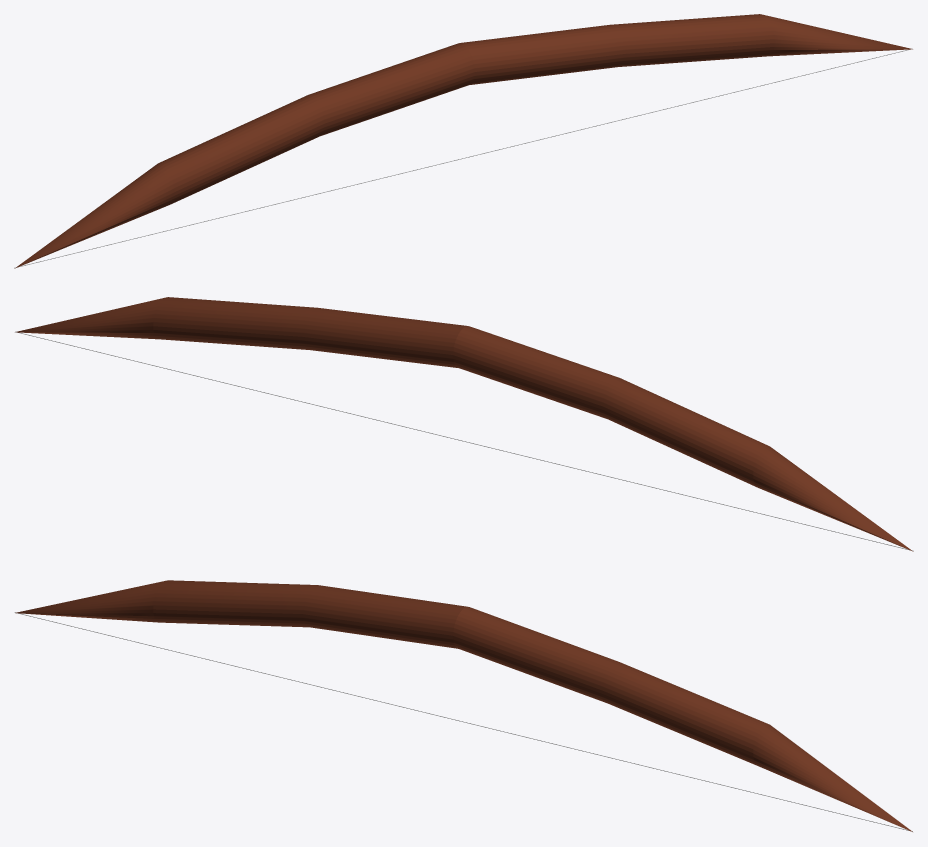
The model's file is bow.fbx.
3 views of the same model, one above another, from view 1: azimuth 30°, elevation 25°; view 2: azimuth 150°, elevation 25°; view 3: azimuth 330°, elevation 25° (orthographic).
Visible parts, largest first — view 1: Cylinder, Cylinder.001; view 2: Cylinder, Cylinder.001; view 3: Cylinder, Cylinder.001.
Part boxes in pixels (x1,y1,x2,y2): Cylinder: [14, 14, 912, 268]; Cylinder.001: [14, 48, 912, 267]; Cylinder: [16, 297, 913, 551]; Cylinder.001: [15, 331, 913, 550]; Cylinder: [15, 580, 912, 831]; Cylinder.001: [14, 612, 912, 831].
Size of the model in its own units: 1200 by 146 by 50.
